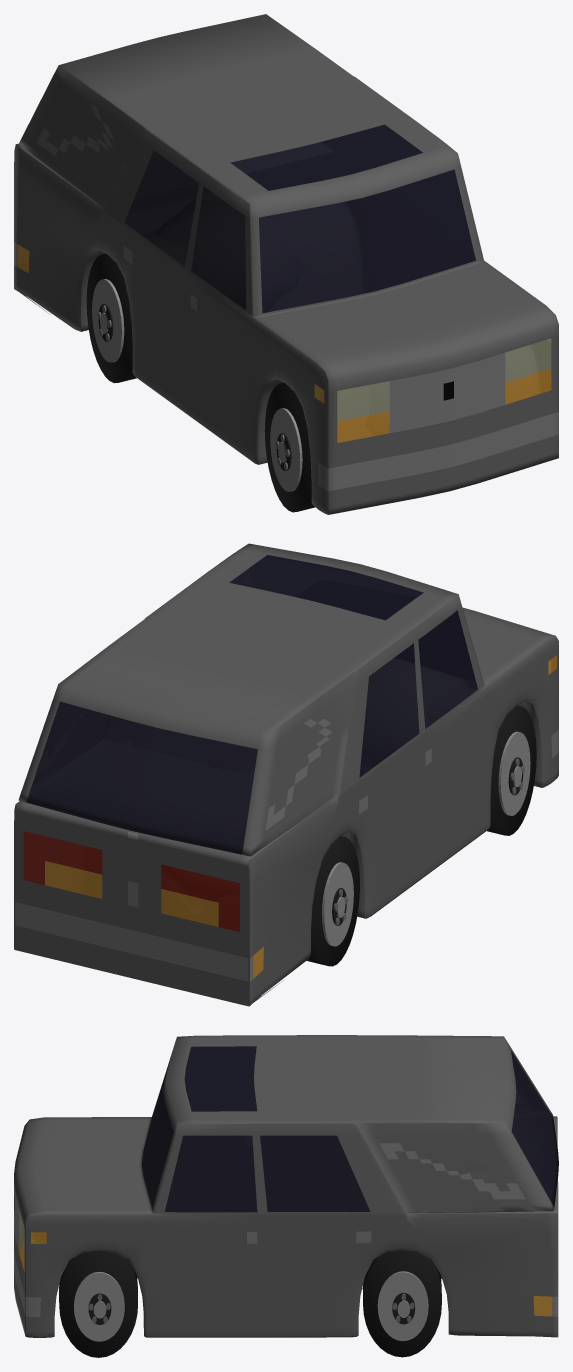
File: car3wagonHEARSE.fbx
3 views of the same model, one above another, from view 1: azimuth 30°, elevation 25°; view 2: azimuth 150°, elevation 25°; view 3: azimuth 270°, elevation 25° (orthographic). The views are drawn at different scales.
Visible parts, largest first — view 1: Car2, LugNut.001, LugNut.002; view 2: Car2, LugNut.002, LugNut.001; view 3: Car2, LugNut.004, LugNut.003.
Part boxes in pixels (x1,y1,x2,y2): Car2: [14, 14, 558, 514]; LugNut.001: [264, 382, 314, 512]; LugNut.002: [86, 253, 136, 383]; Car2: [14, 543, 558, 1006]; LugNut.002: [306, 836, 359, 966]; LugNut.001: [487, 705, 536, 835]; Car2: [14, 1035, 558, 1337]; LugNut.004: [59, 1250, 137, 1357]; LugNut.003: [362, 1250, 441, 1357].
Bounding box in the file's own units: 187 × 204 × 434.
